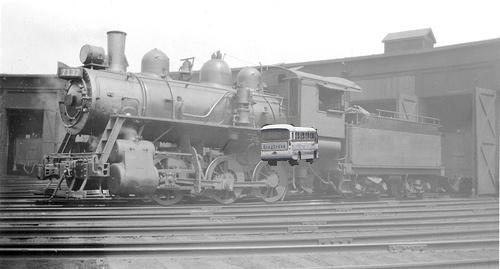tampered: (262, 125, 319, 166)
